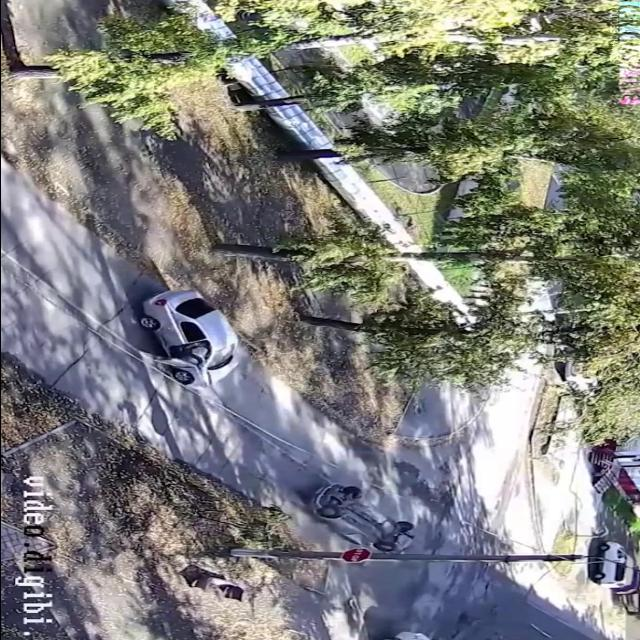accident: (298, 479, 426, 561)
